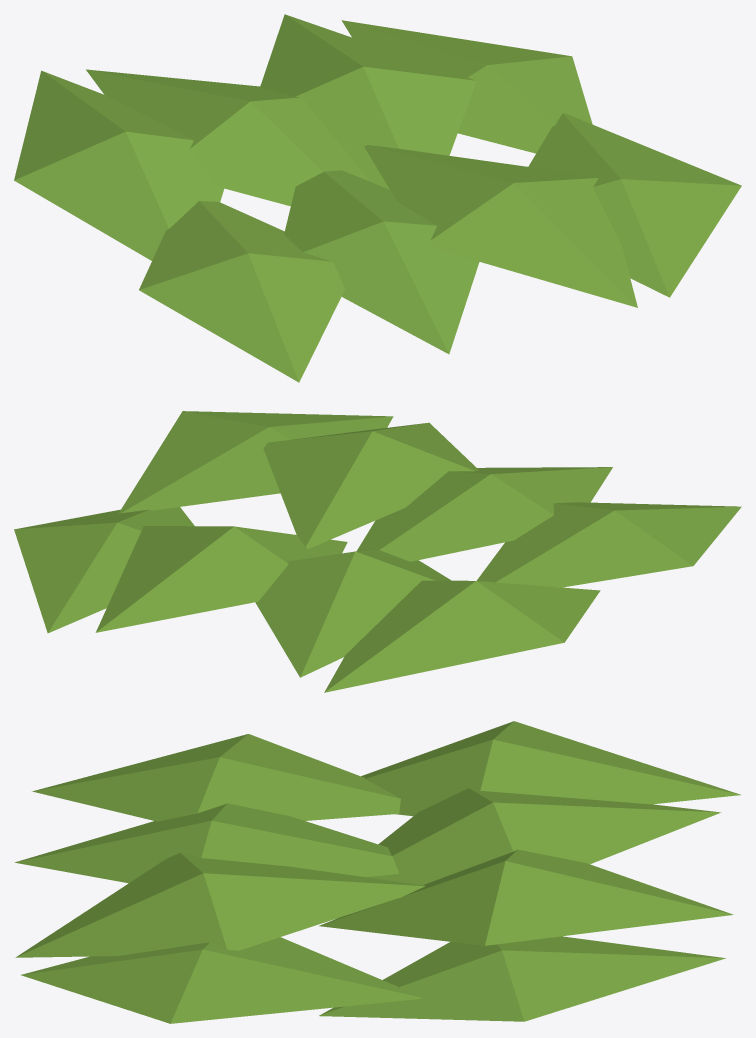
Rendered from near.glb.
3 renders of one model, top to bottom at view 1: azimuth 30°, elevation 25°; view 2: azimuth 150°, elevation 25°; view 3: azimuth 270°, elevation 25°, orthographic. The views are drawn at different scales.
Visible parts, largest first — view 1: near; view 2: near; view 3: near.
Boxes of the visible parts, x1,y1,x2,y2 form: near: (14,14,741,382); near: (14,411,741,692); near: (14,721,740,1023).
Bounding box in the file's own units: 0.5814 × 0.0745 × 0.6269.
